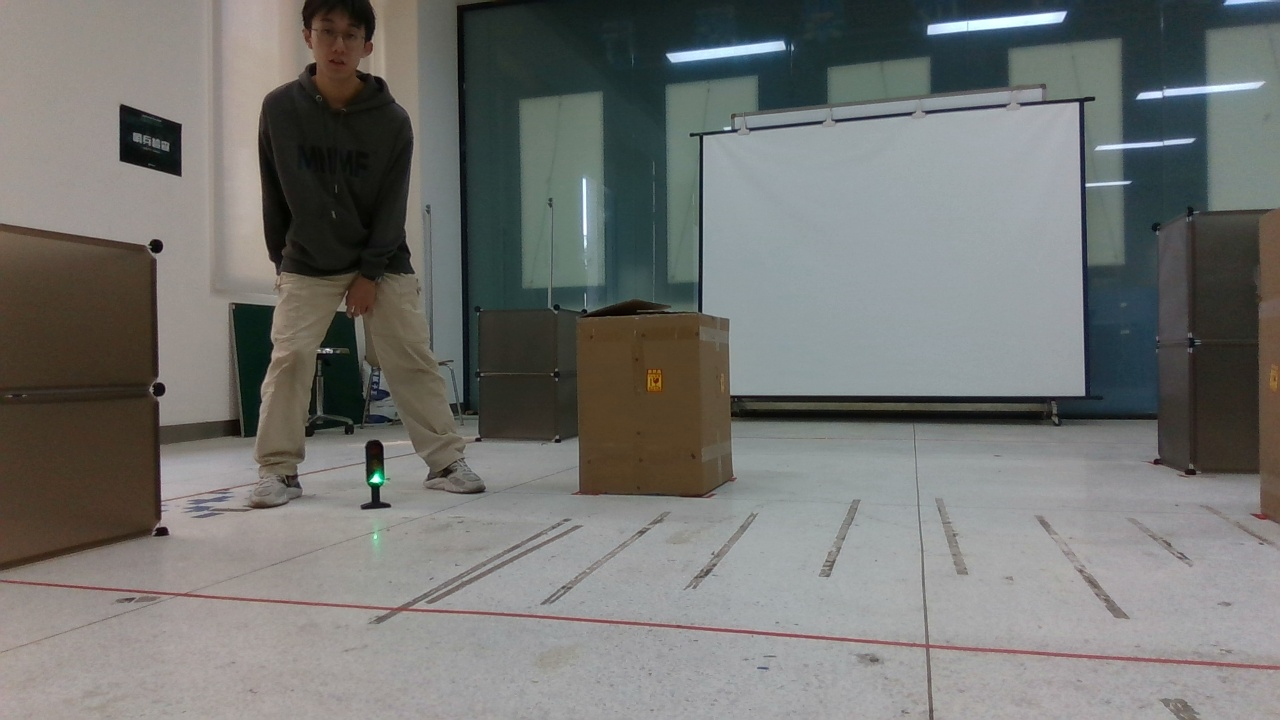green_light: (353, 433, 399, 517)
